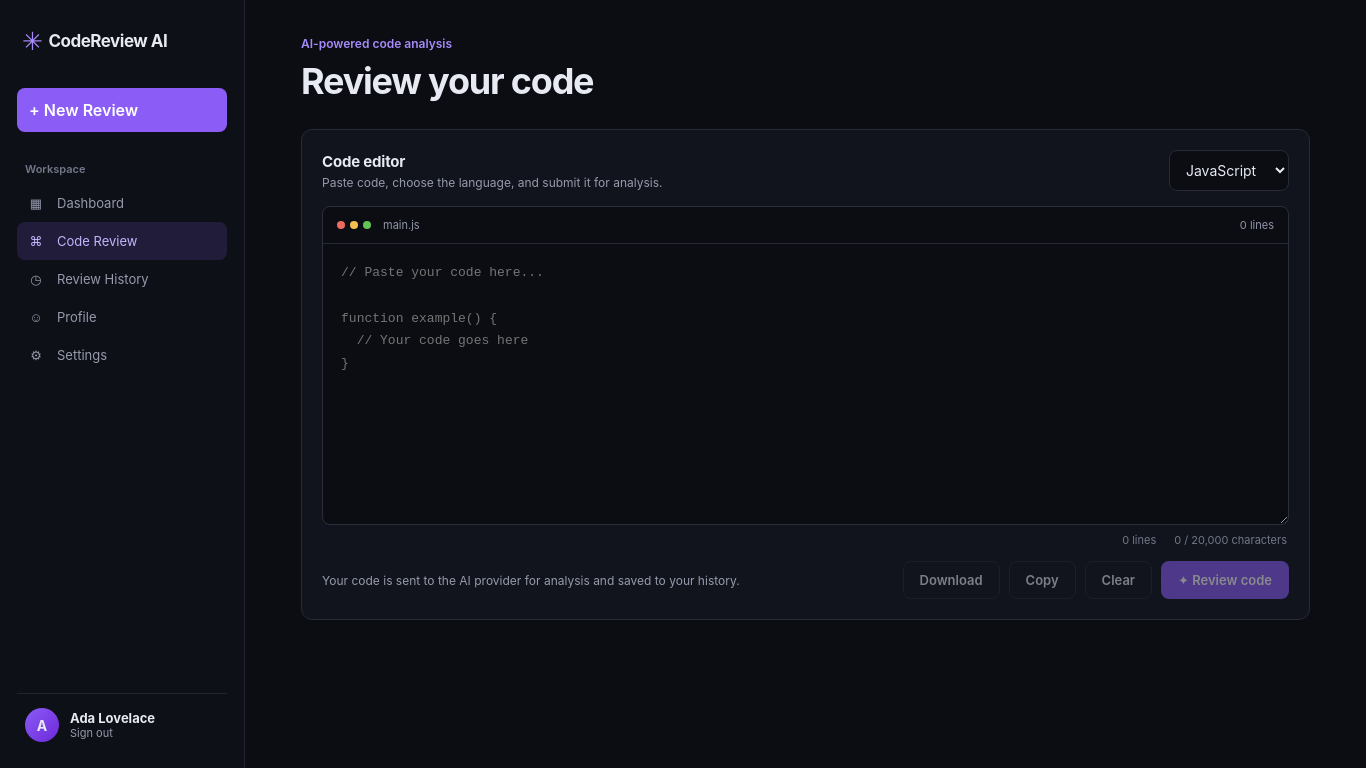
it: code review page › on AI/API failure shows the error and NO result
Click the text box named "code to review".
click(805, 384)  # box left=323, top=244, right=1288, bottom=524
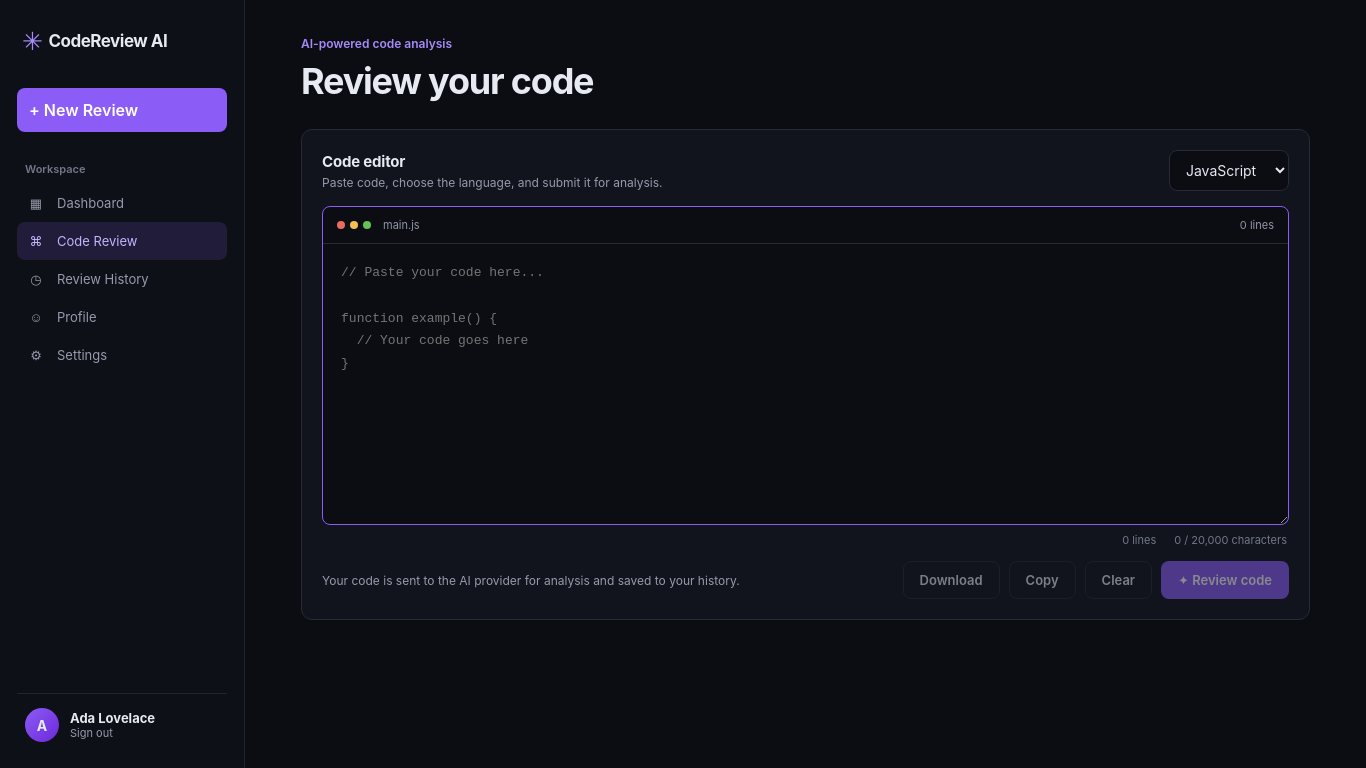
Type keys "function f() { return 1 }"
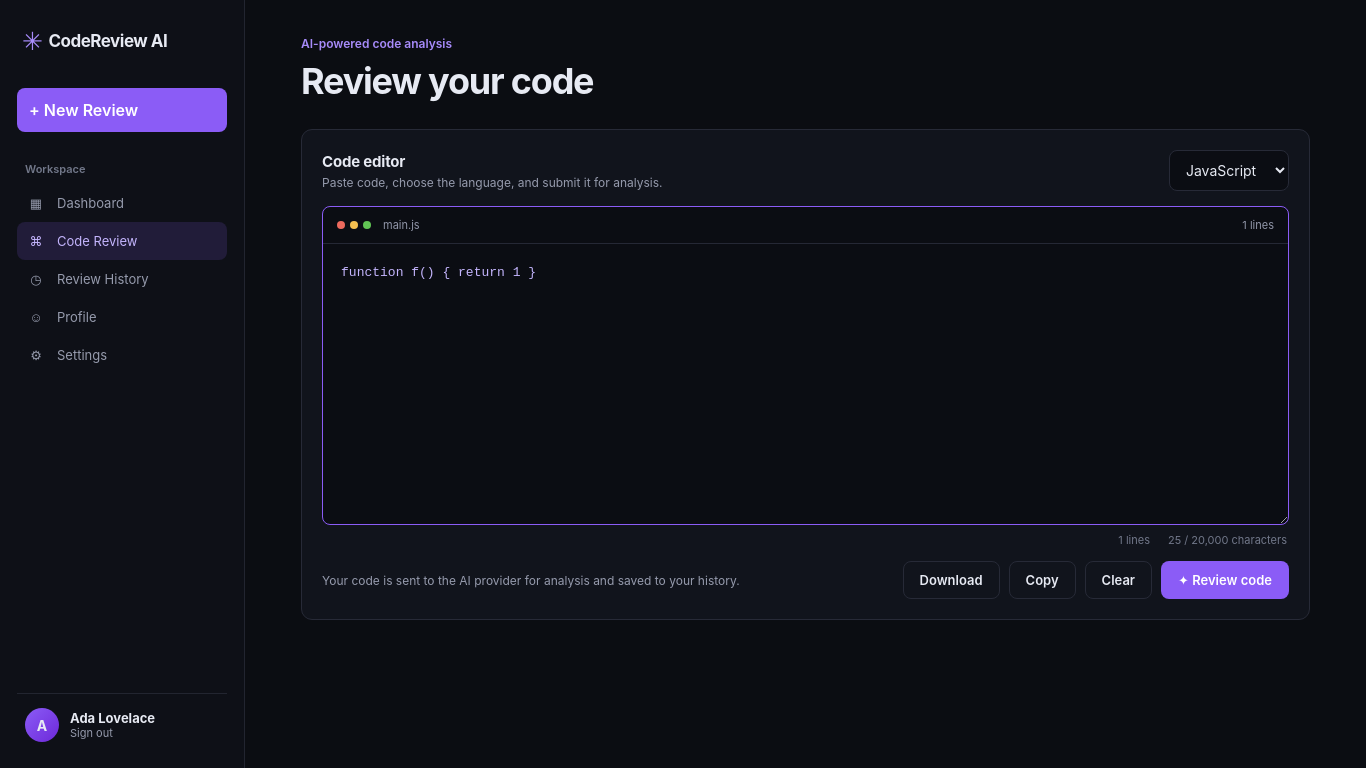
Click the button "✦ Review code".
click(1225, 580)  # box left=1161, top=561, right=1289, bottom=599
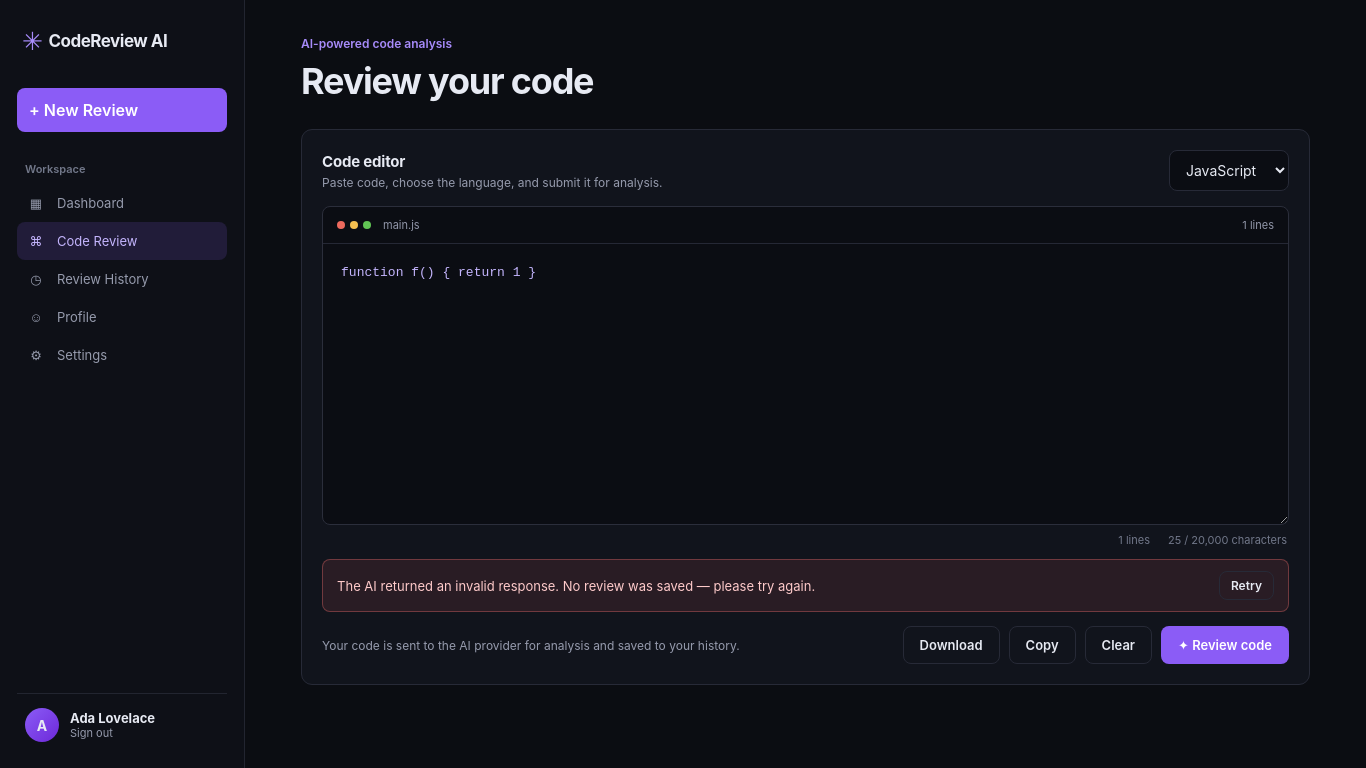
expect the message shows "invalid response": met, box left=337, top=578, right=815, bottom=594
